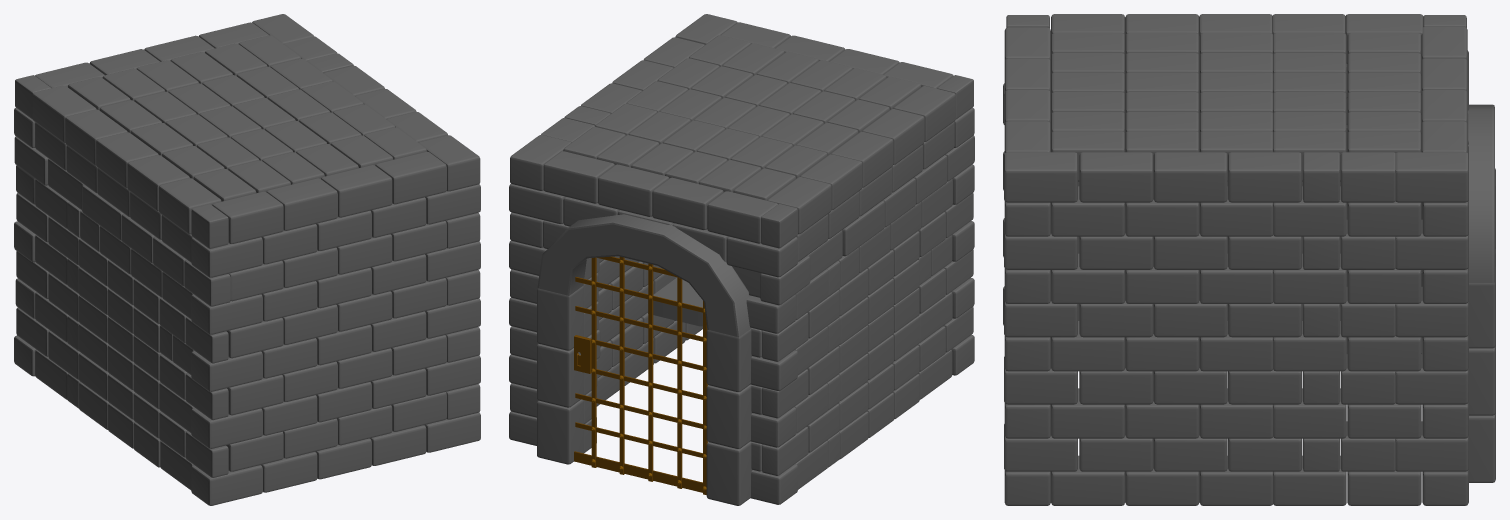
The model's file is final brickroom.fbx.
3 renders of one model, left to right at view 1: azimuth 30°, elevation 25°; view 2: azimuth 150°, elevation 25°; view 3: azimuth 270°, elevation 25°, orthographic. The views are drawn at different scales.
Visible parts, largest first — view 1: polySurface392, polySurface516, polySurface315, polySurface460, polySurface432, polySurface422, polySurface370, polySurface448, polySurface346, polySurface323, polySurface330, polySurface499 (+142 smaller); view 2: polySurface403, polySurface406, polySurface402, polySurface405, polySurface538, polySurface340, polySurface387, polySurface521, polySurface404, polySurface500, polySurface323, polySurface369 (+138 smaller); view 3: polySurface403, polySurface420, polySurface413, polySurface437, polySurface369, polySurface499, polySurface533, polySurface487, polySurface506, polySurface509, polySurface519, polySurface348 (+105 smaller).
Boxes of the visible parts, x1,y1,x2,y2 form: polySurface392: (212, 191, 283, 243); polySurface516: (375, 151, 446, 204); polySurface315: (321, 165, 392, 217); polySurface460: (266, 178, 337, 230); polySurface432: (191, 408, 262, 448); polySurface422: (191, 465, 262, 505); polySurface370: (191, 351, 262, 391); polySurface448: (191, 237, 262, 277); polySurface346: (191, 294, 262, 334); polySurface323: (32, 85, 96, 142); polySurface330: (158, 178, 221, 234); polySurface499: (418, 135, 480, 191); polySurface403: (537, 214, 752, 392); polySurface406: (706, 384, 752, 448); polySurface402: (706, 441, 752, 505); polySurface405: (537, 399, 583, 464); polySurface538: (652, 177, 723, 230); polySurface340: (543, 151, 614, 203); polySurface387: (598, 164, 668, 216); polySurface521: (707, 191, 777, 243); polySurface404: (537, 343, 583, 407); polySurface500: (726, 236, 797, 277); polySurface323: (767, 177, 831, 234); polySurface369: (510, 135, 571, 190); polySurface403: (1467, 104, 1495, 348); polySurface420: (1153, 152, 1227, 202); polySurface413: (1228, 152, 1302, 202); polySurface437: (1079, 152, 1153, 202); polySurface369: (1395, 152, 1468, 202); polySurface499: (1004, 152, 1077, 202); polySurface533: (1340, 152, 1395, 202); polySurface487: (1051, 455, 1125, 505); polySurface506: (1051, 186, 1125, 236); polySurface509: (1051, 321, 1125, 371); polySurface519: (1051, 388, 1125, 438); polySurface348: (1199, 388, 1273, 438).
Bounding box in the file's own units: 4.01 × 4.03 × 5.31.
